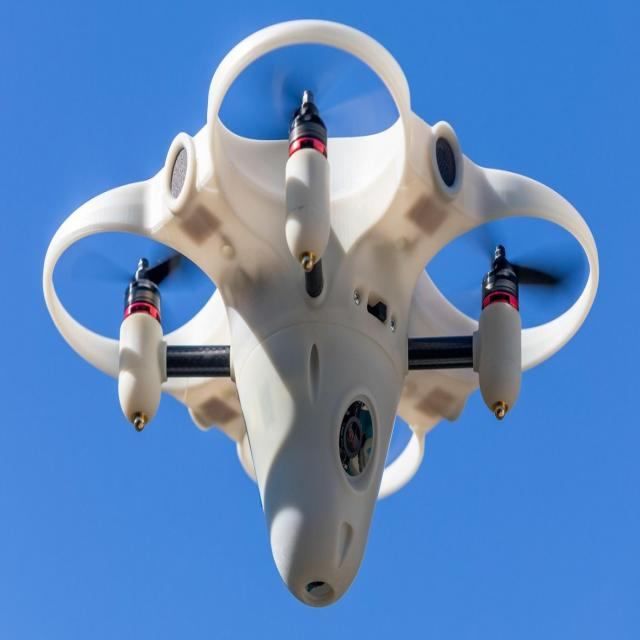drone: (15, 14, 608, 620)
